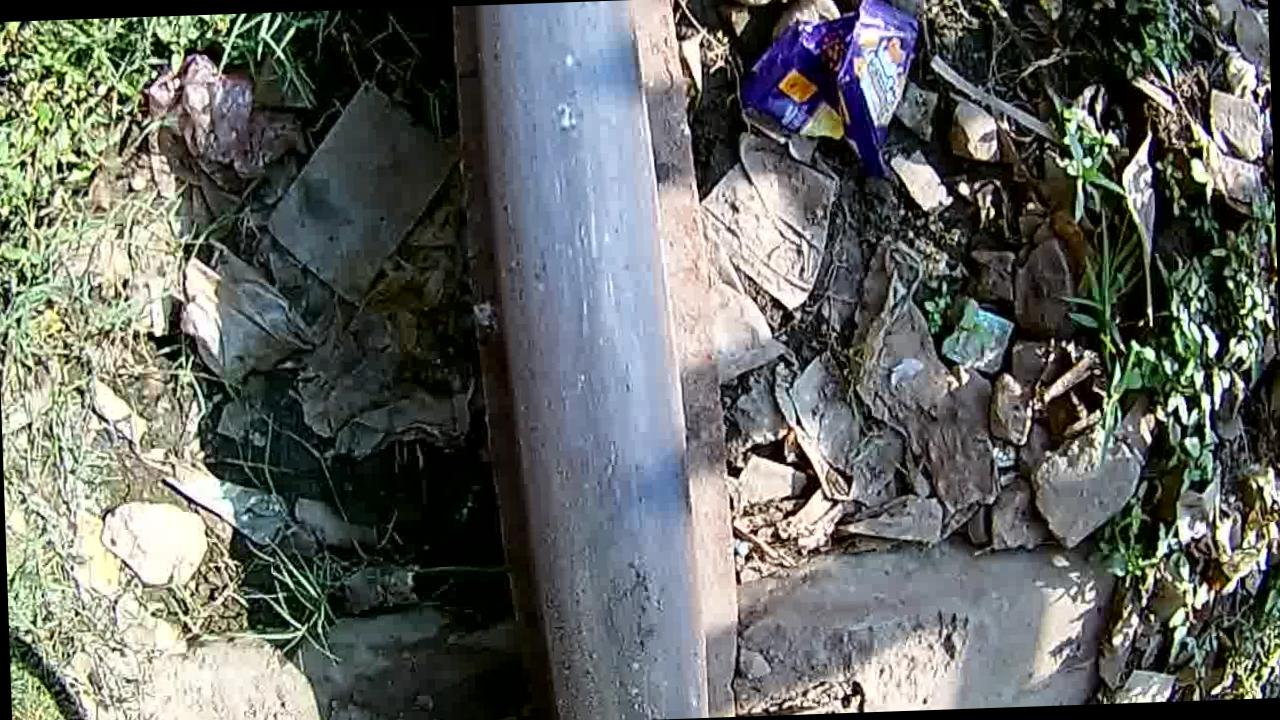bolt_missing: (476, 0, 687, 720)
